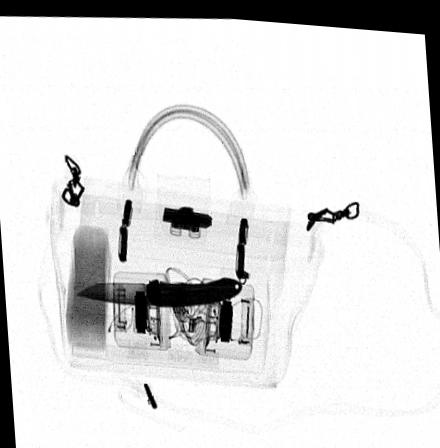Knife: (74, 272, 242, 303)
